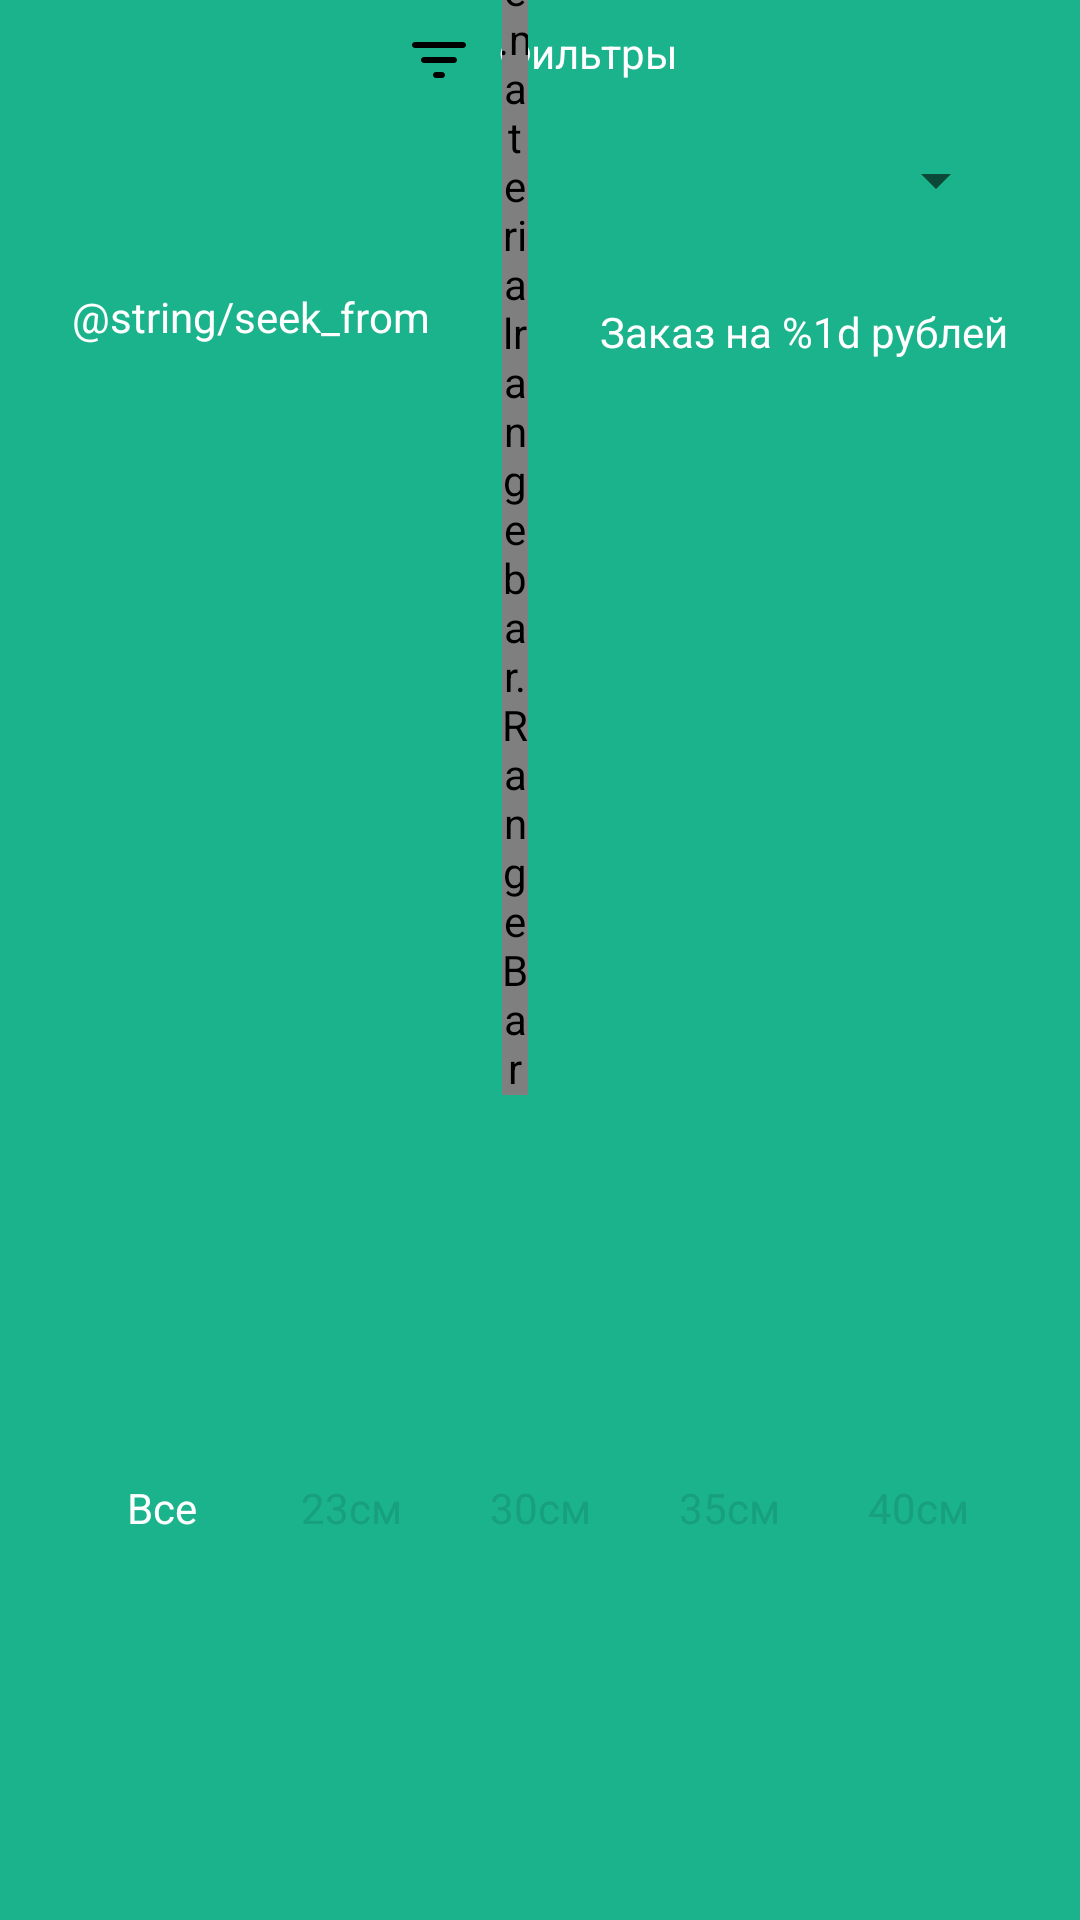

Screen size 1080 x 1920. Icon name, then its box in pixels as (x1, y1, x2, y2):
filter: (412, 42, 466, 78)
